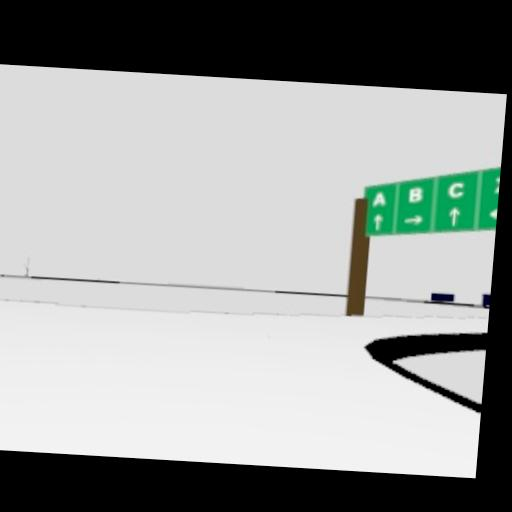A: (372, 192, 389, 210)
B: (405, 186, 425, 205)
C: (446, 180, 470, 200)
Left: (488, 206, 498, 215)
Right: (403, 212, 425, 227)
Straight: (448, 208, 463, 226), (372, 213, 384, 230)
